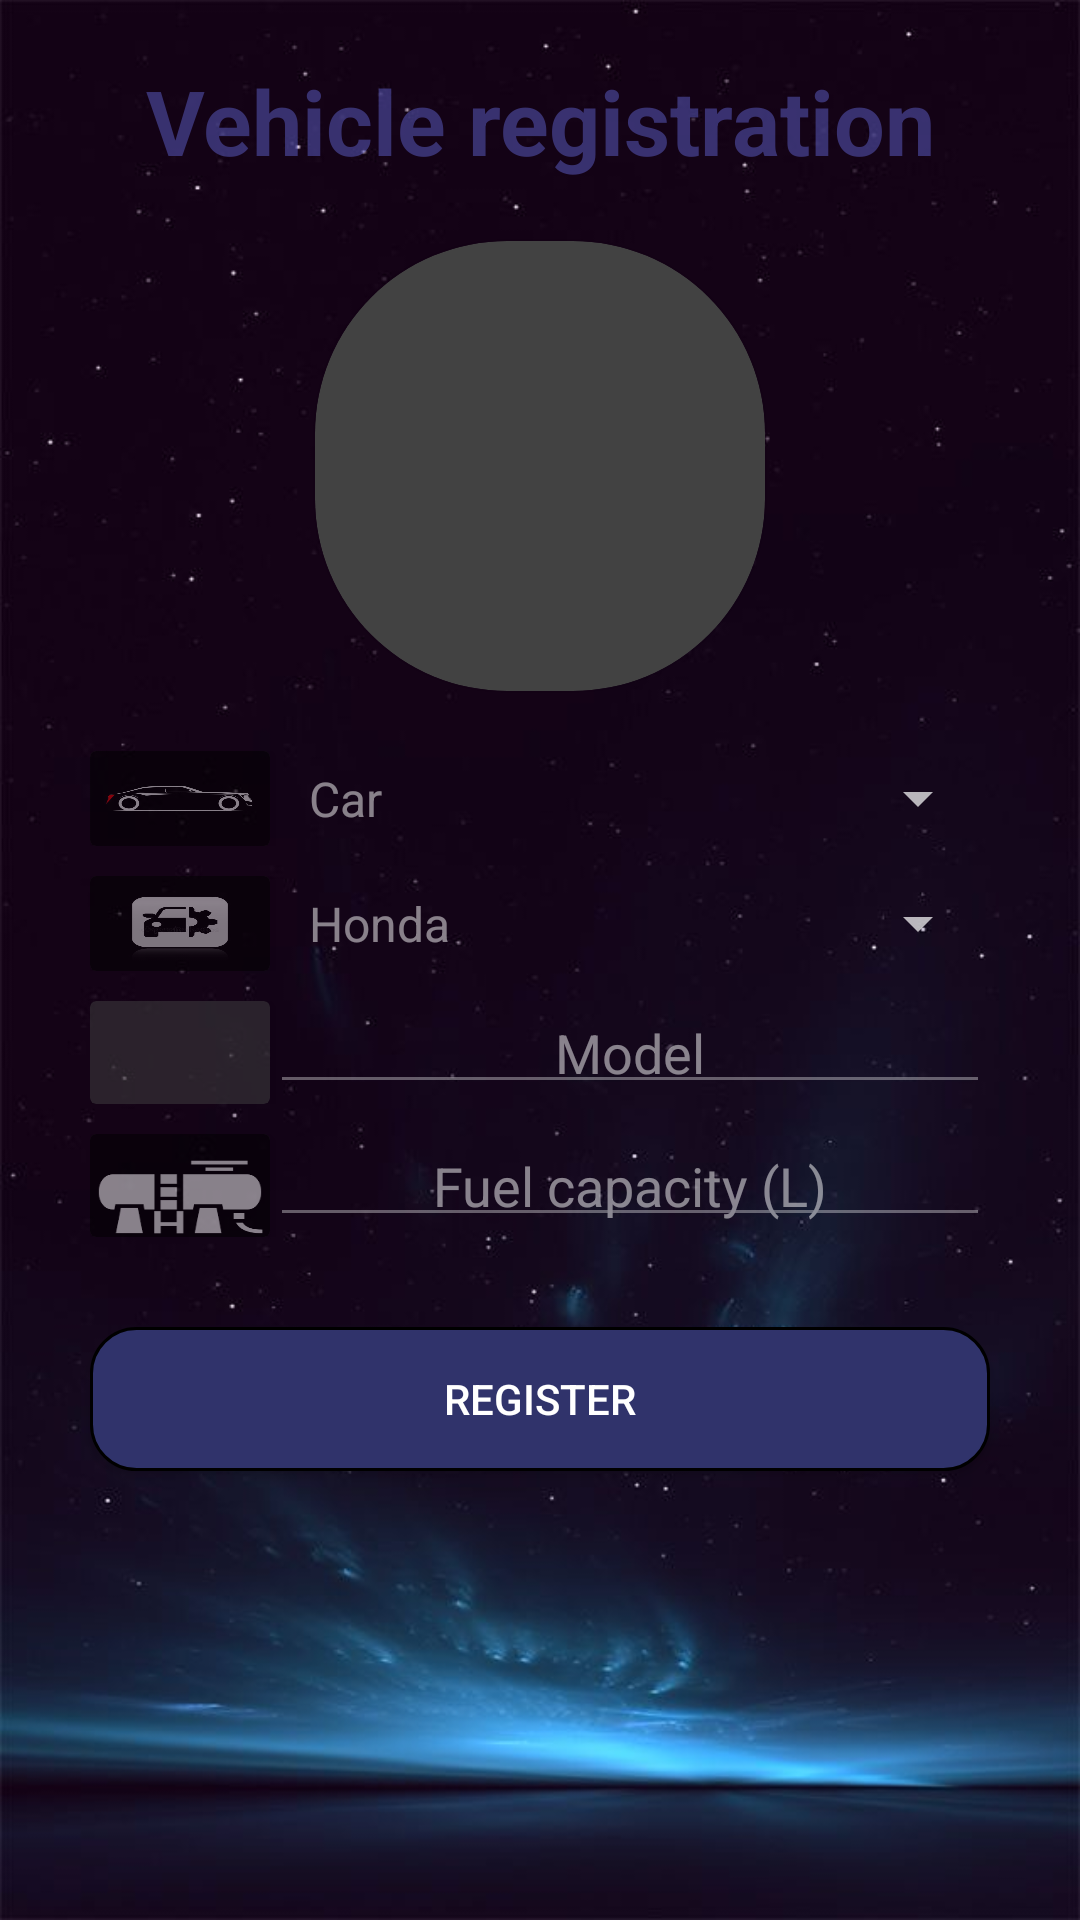

Named icons in this screenshot (1080*1920) and their bounding boxes, bbox(x1, y1, x2, y2):
car manufacturer: bbox(118, 897, 228, 950)
fuel tank: bbox(99, 1160, 263, 1234)
